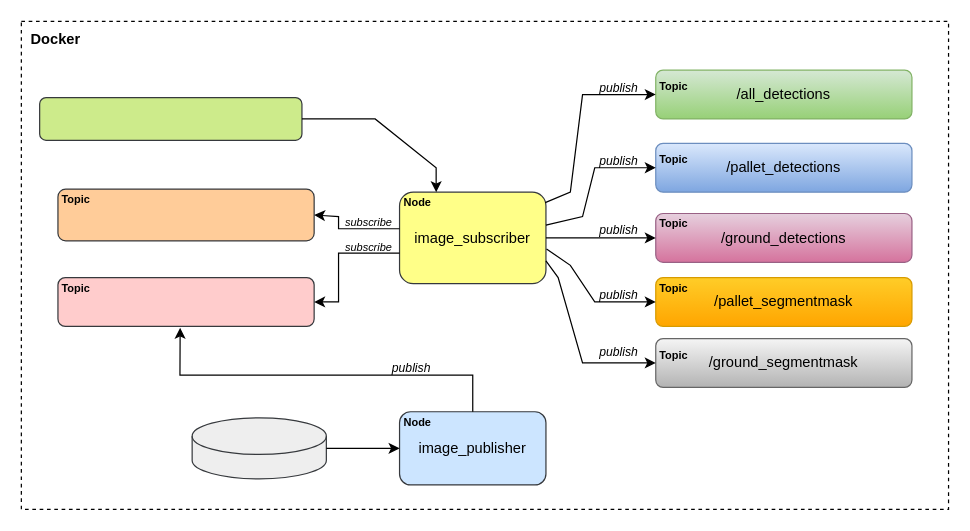
The diagram is 970 pixels wide and 531 high, and some of its shapes have lost their labels. The shapes that lost their labels are listed below. From the top down, each one's box as (x1, y1, x2, y2) in pixels, then its label:
(38, 96, 302, 140): start.sh (converts best.pt to best.engine)
(57, 188, 314, 241): /robot1/zed2i/left/image_rect_color
(57, 276, 314, 326): /input_images
(191, 417, 326, 479): /test_images
